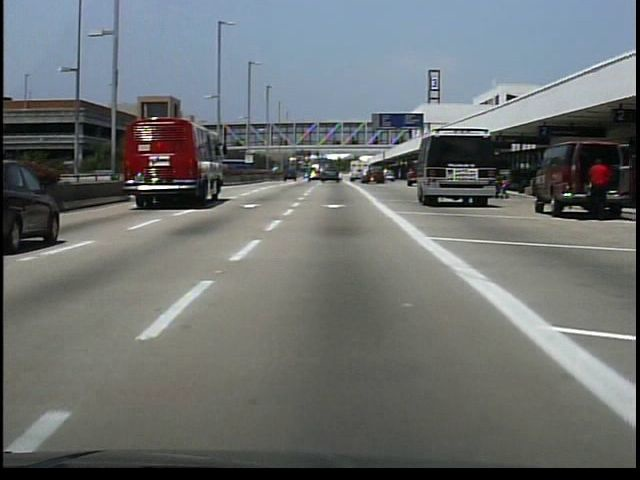person: (585, 156, 609, 222), (380, 167, 392, 187)
